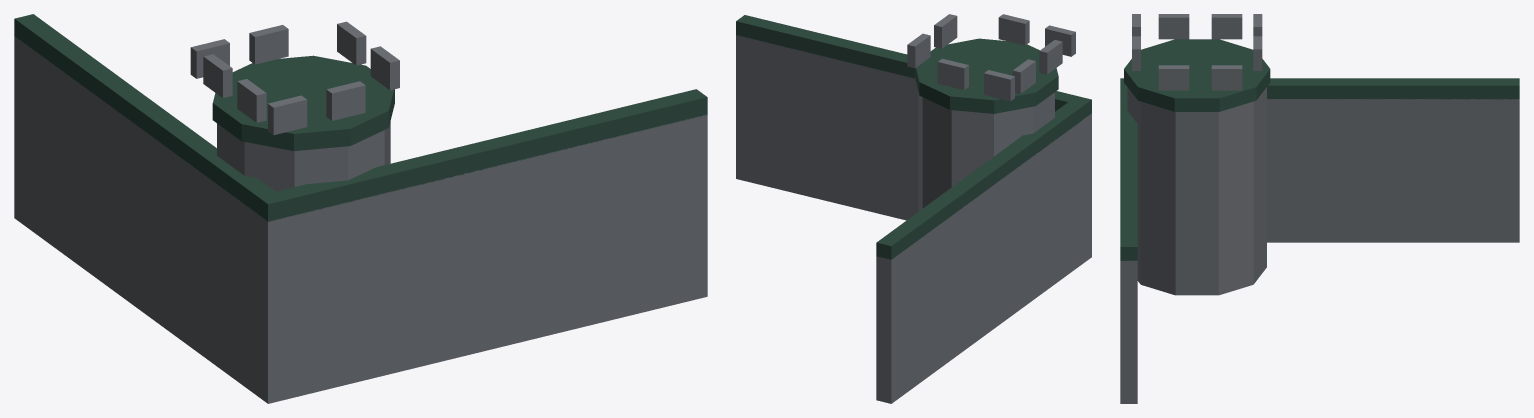
Rendered from WallCorner.fbx.
The picture shows the model from 3 angles, left to right: view 1: azimuth 30°, elevation 25°; view 2: azimuth 150°, elevation 25°; view 3: azimuth 270°, elevation 25°; orthographic projection. The views are drawn at different scales.
Visible parts, largest first — view 1: WallCorner; view 2: WallCorner; view 3: WallCorner.
Boxes of the visible parts, x1,y1,x2,y2 form: WallCorner: (14,14,707,403); WallCorner: (736,14,1091,403); WallCorner: (1120,14,1519,403).
Size of the model in its own units: 1202 by 752 by 1202.
Materials: 2 (2 with a texture image).
